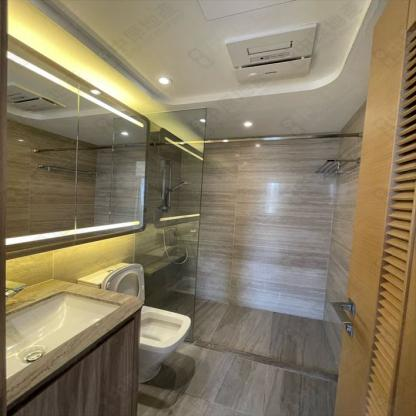Toilet: (78, 261, 192, 383)
Toilet Sink: (2, 291, 123, 384)
Water Cubicle: (145, 107, 210, 342)
